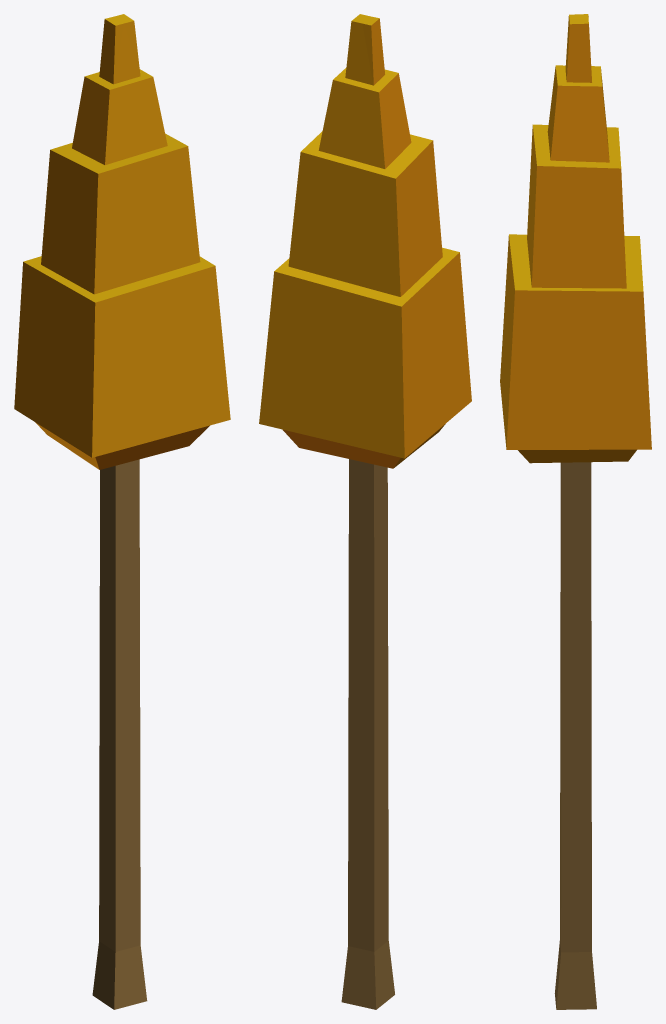
Rendered from SF_Env_Tree_Fall_14.fbx.
3 views of the same model, side by side, from view 1: azimuth 30°, elevation 25°; view 2: azimuth 150°, elevation 25°; view 3: azimuth 270°, elevation 25° (orthographic).
Parts seen in each view (by area): view 1: SF_Env_Tree_Fall_14; view 2: SF_Env_Tree_Fall_14; view 3: SF_Env_Tree_Fall_14.
Part boxes in pixels (x1=…): SF_Env_Tree_Fall_14: x1=14, y1=14, x2=230, y2=1009; SF_Env_Tree_Fall_14: x1=259, y1=14, x2=471, y2=1009; SF_Env_Tree_Fall_14: x1=500, y1=14, x2=651, y2=1009.
Size of the model in its own units: 3.35 by 21.25 by 2.98.
